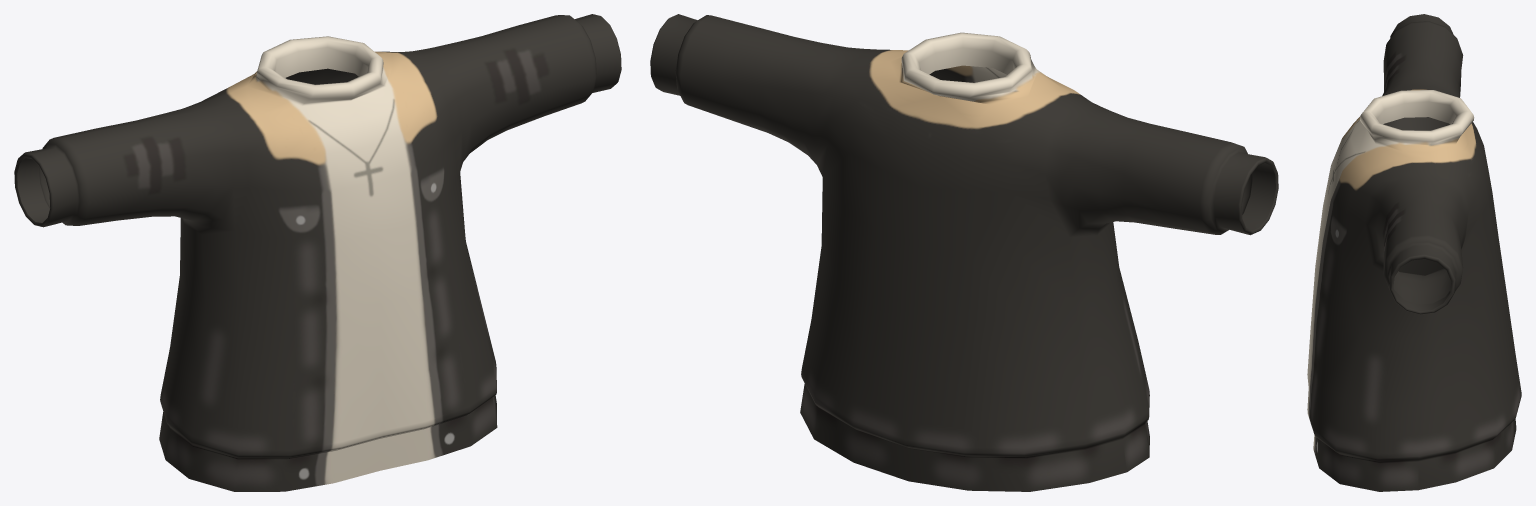
The model's file is upper cloth 12.glb.
The picture shows the model from 3 angles, left to right: view 1: azimuth 30°, elevation 25°; view 2: azimuth 150°, elevation 25°; view 3: azimuth 270°, elevation 25°; orthographic projection. The views are drawn at different scales.
Visible parts, largest first — view 1: upper_cloth_12; view 2: upper_cloth_12; view 3: upper_cloth_12.
Boxes of the visible parts, left/top/right/bottom form: upper_cloth_12: left=14, top=14, right=621, bottom=491; upper_cloth_12: left=650, top=14, right=1278, bottom=491; upper_cloth_12: left=1307, top=14, right=1521, bottom=491.
Size of the model in its own units: 0.0116 by 0.00711 by 0.00433.
Materials: 1 (1 with a texture image).
